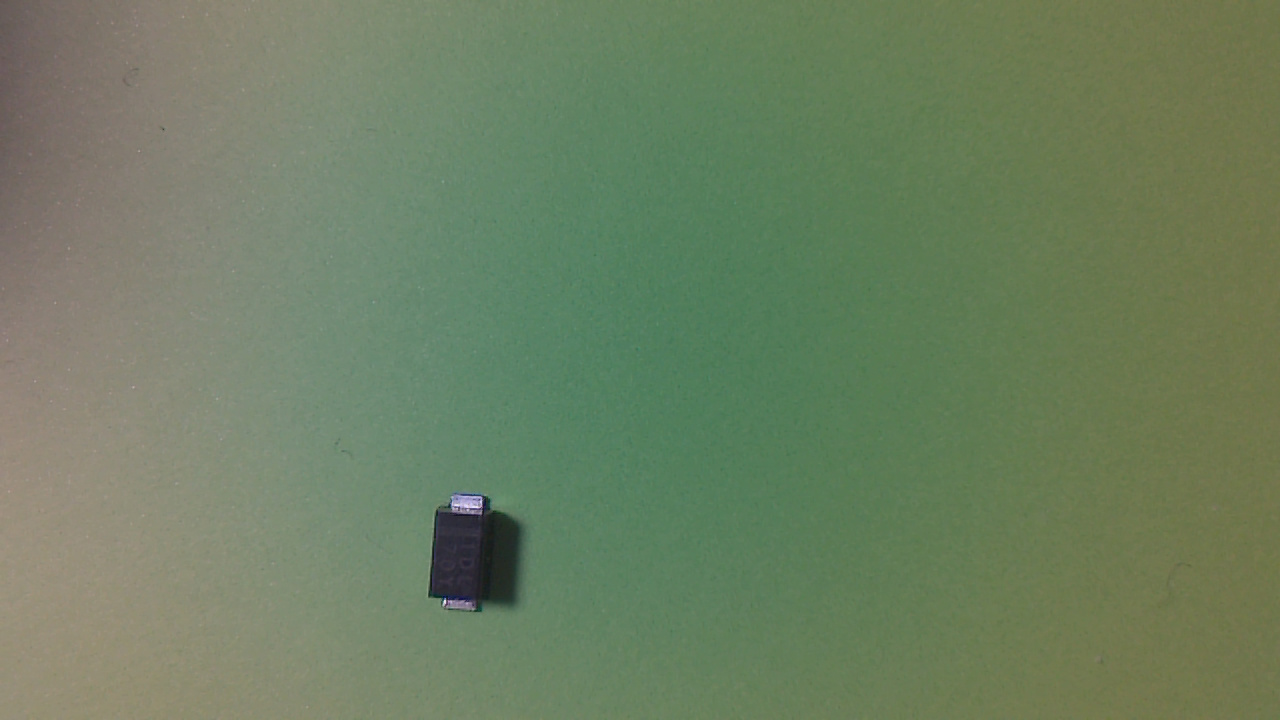Diode: (427, 496, 502, 618)
